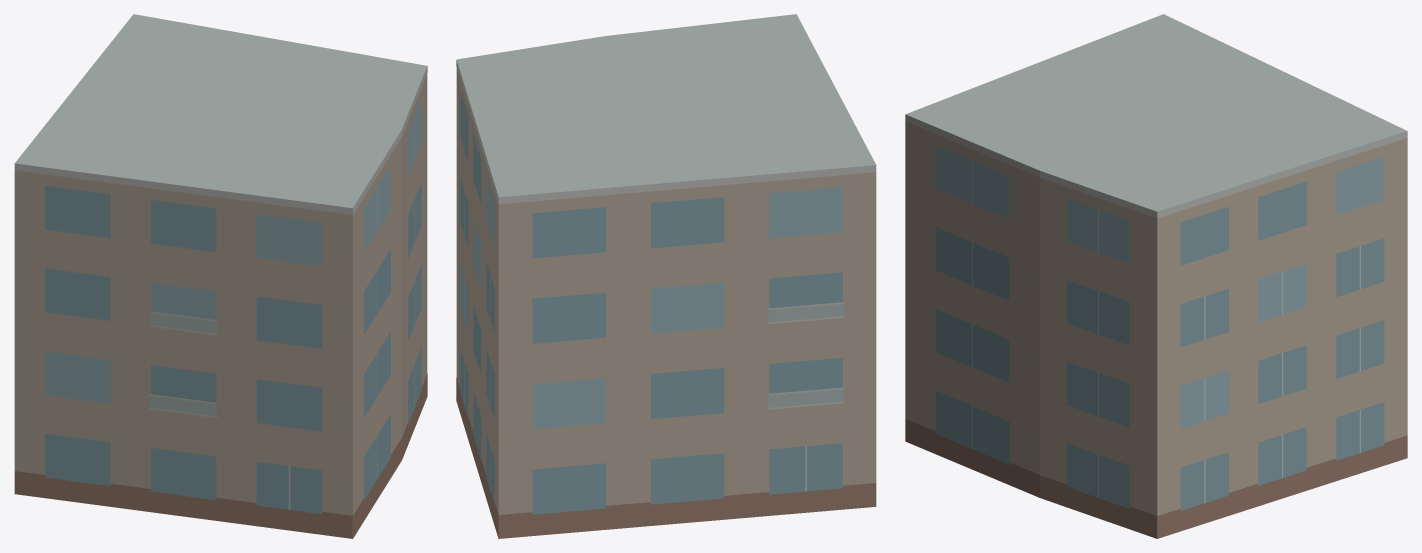
The model's file is survey-upis-32740955.glb.
3 views of the same model, side by side, from view 1: azimuth 30°, elevation 25°; view 2: azimuth 150°, elevation 25°; view 3: azimuth 270°, elevation 25° (orthographic). The views are drawn at different scales.
Parts seen in each view (by area): view 1: survey-upis-32740955.tmp; view 2: survey-upis-32740955.tmp; view 3: survey-upis-32740955.tmp.
Part boxes in pixels (bbox=[...]): survey-upis-32740955.tmp: bbox=[14, 14, 427, 538]; survey-upis-32740955.tmp: bbox=[456, 14, 876, 538]; survey-upis-32740955.tmp: bbox=[905, 14, 1407, 538].
Size of the model in its own units: 15.18 by 11.7 by 16.29.
